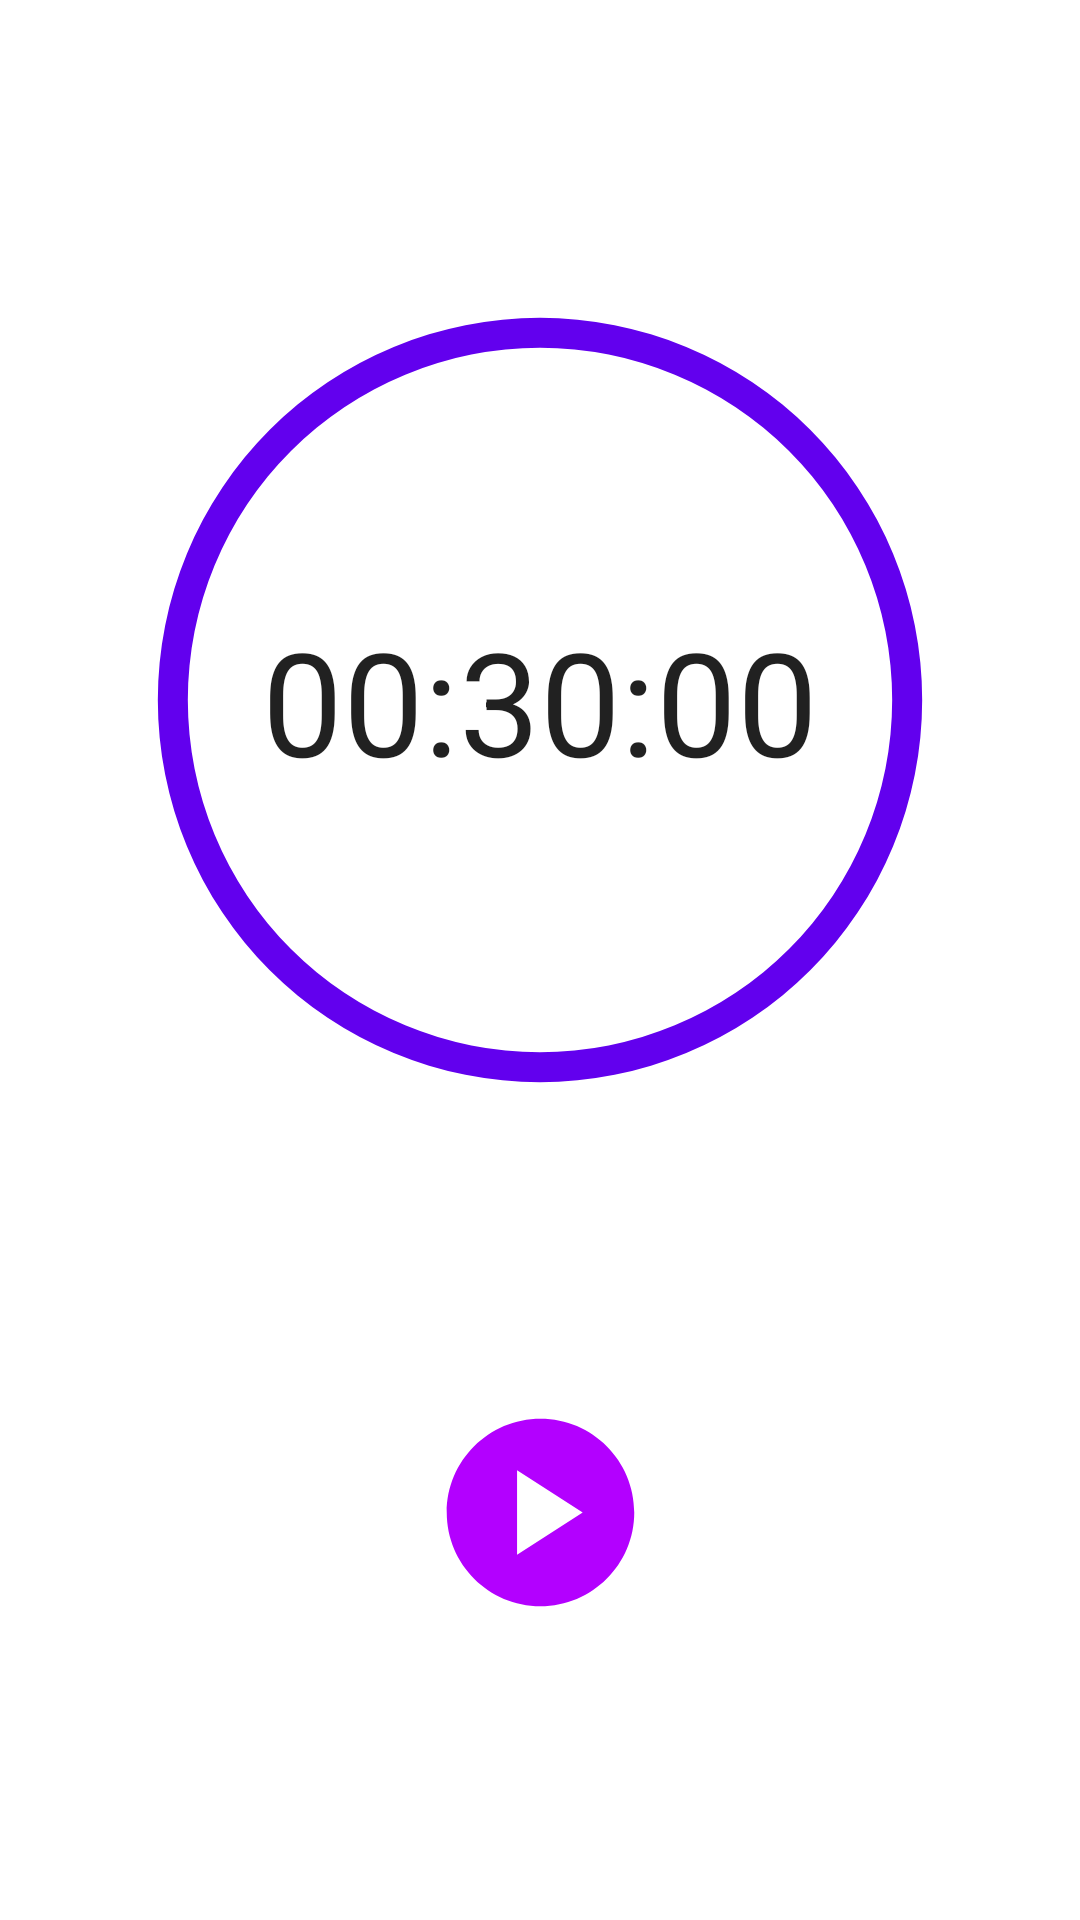

Icon bounding boxes for this 1080×1920 phone screenshot, format bbox=[x1, y1, x2, y2]:
play circle: bbox=[446, 1418, 635, 1607]
